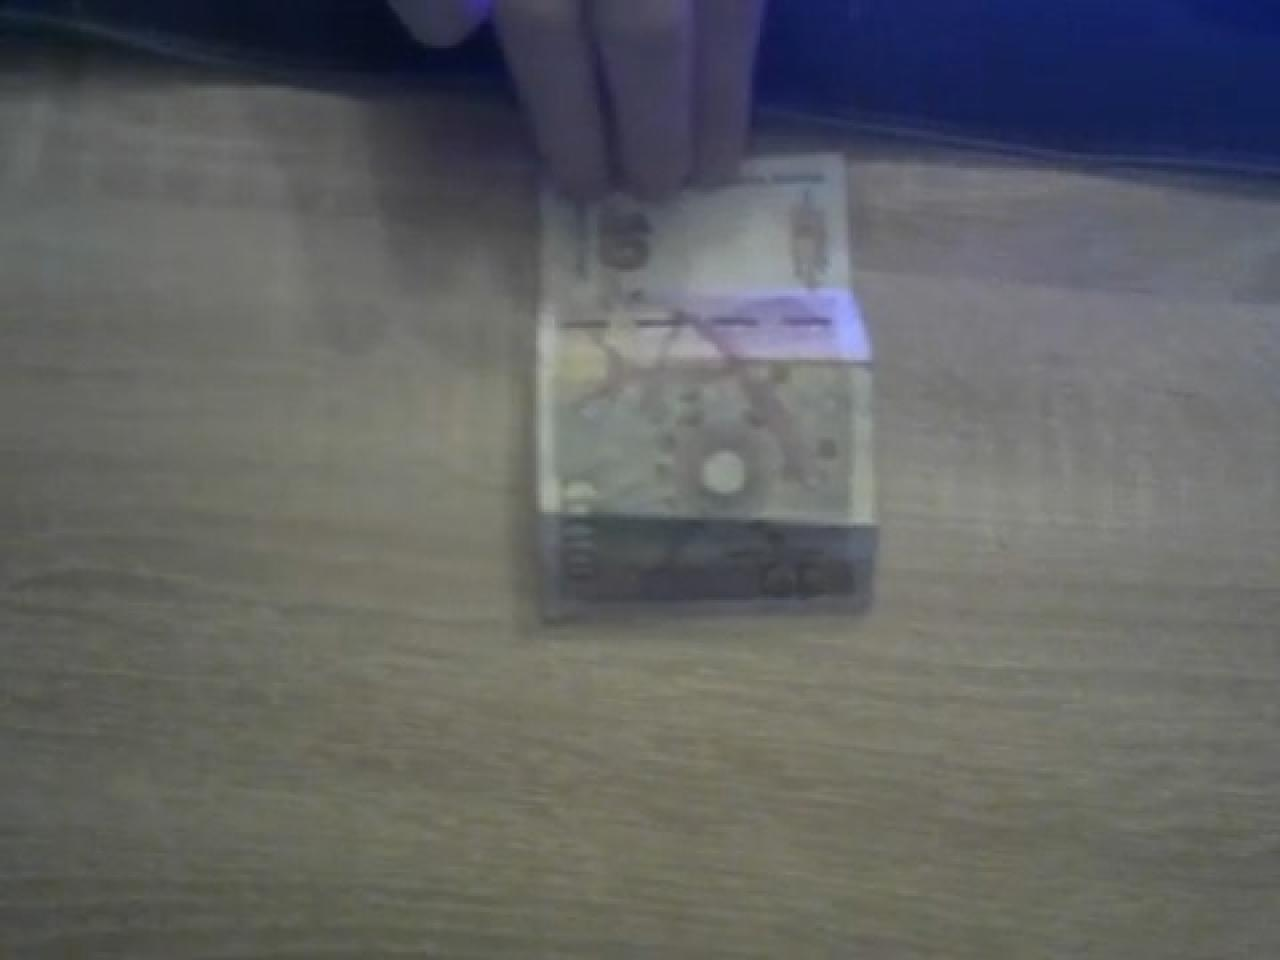10leva: (533, 154, 877, 619)
